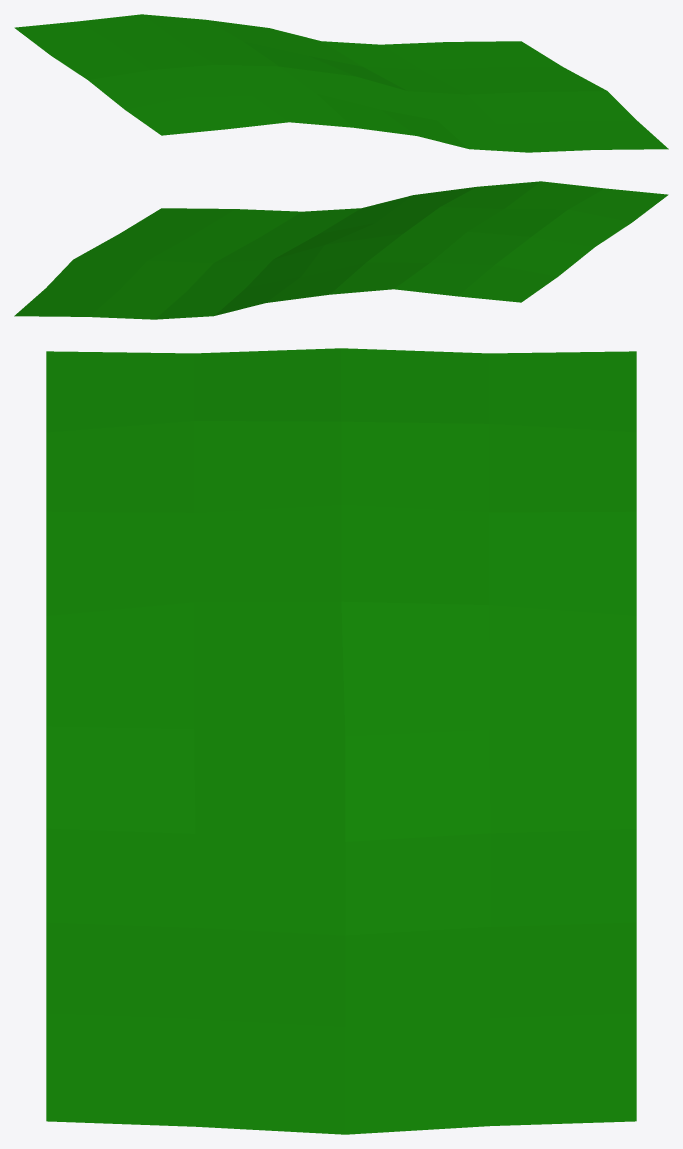
File: EdgeTile2.fbx
The picture shows the model from 3 angles, top to bottom: view 1: azimuth 30°, elevation 25°; view 2: azimuth 150°, elevation 25°; view 3: azimuth 270°, elevation 25°; orthographic projection. The views are drawn at different scales.
Visible parts, largest first — view 1: Cube; view 2: Cube; view 3: Cube.
Boxes of the visible parts, bbox=[...] form: Cube: bbox=[14, 14, 668, 152]; Cube: bbox=[14, 181, 668, 319]; Cube: bbox=[46, 348, 636, 1134].
Bounding box in the file's own units: 408 × 104 × 200.
